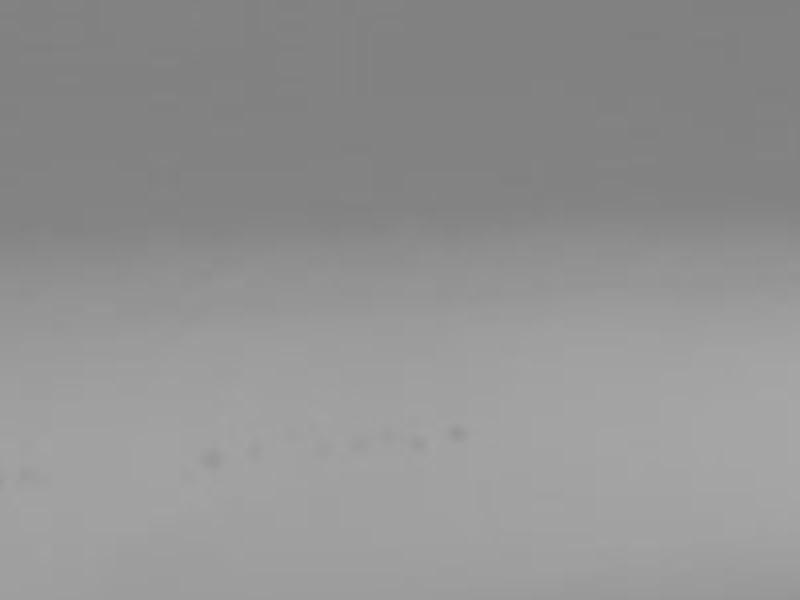defect: (198, 444, 223, 469), (446, 417, 471, 440), (408, 433, 432, 456), (346, 434, 371, 455), (244, 438, 263, 458)
